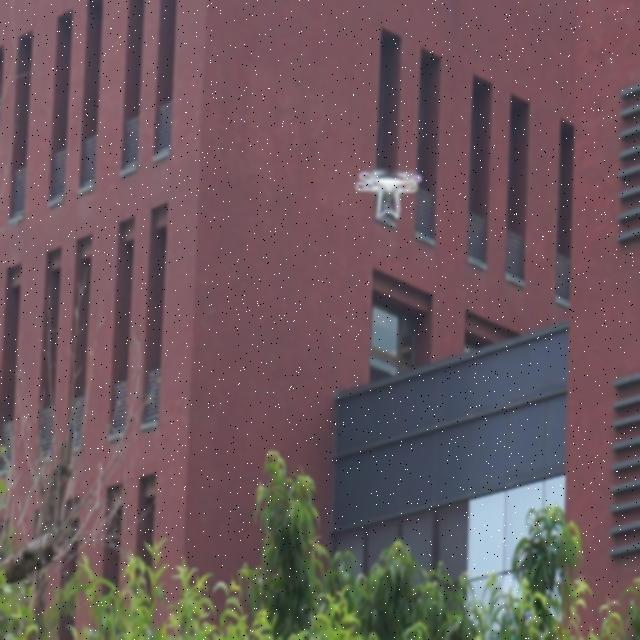UAV: (355, 169, 422, 219)
